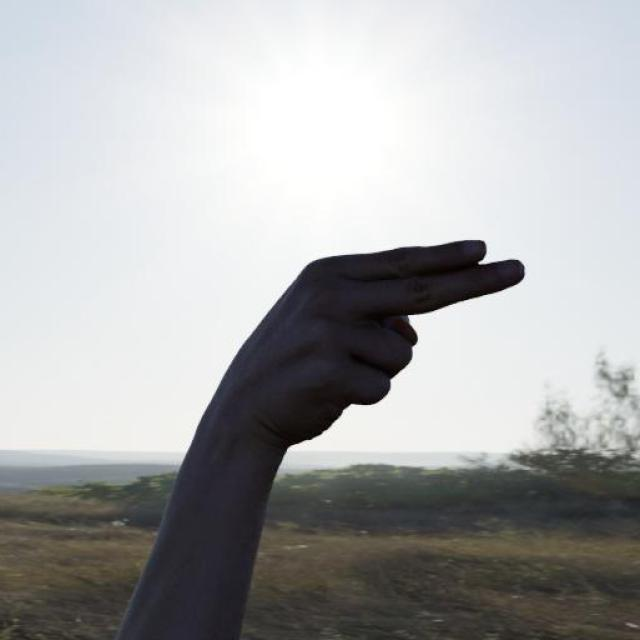H: (204, 237, 527, 438)
